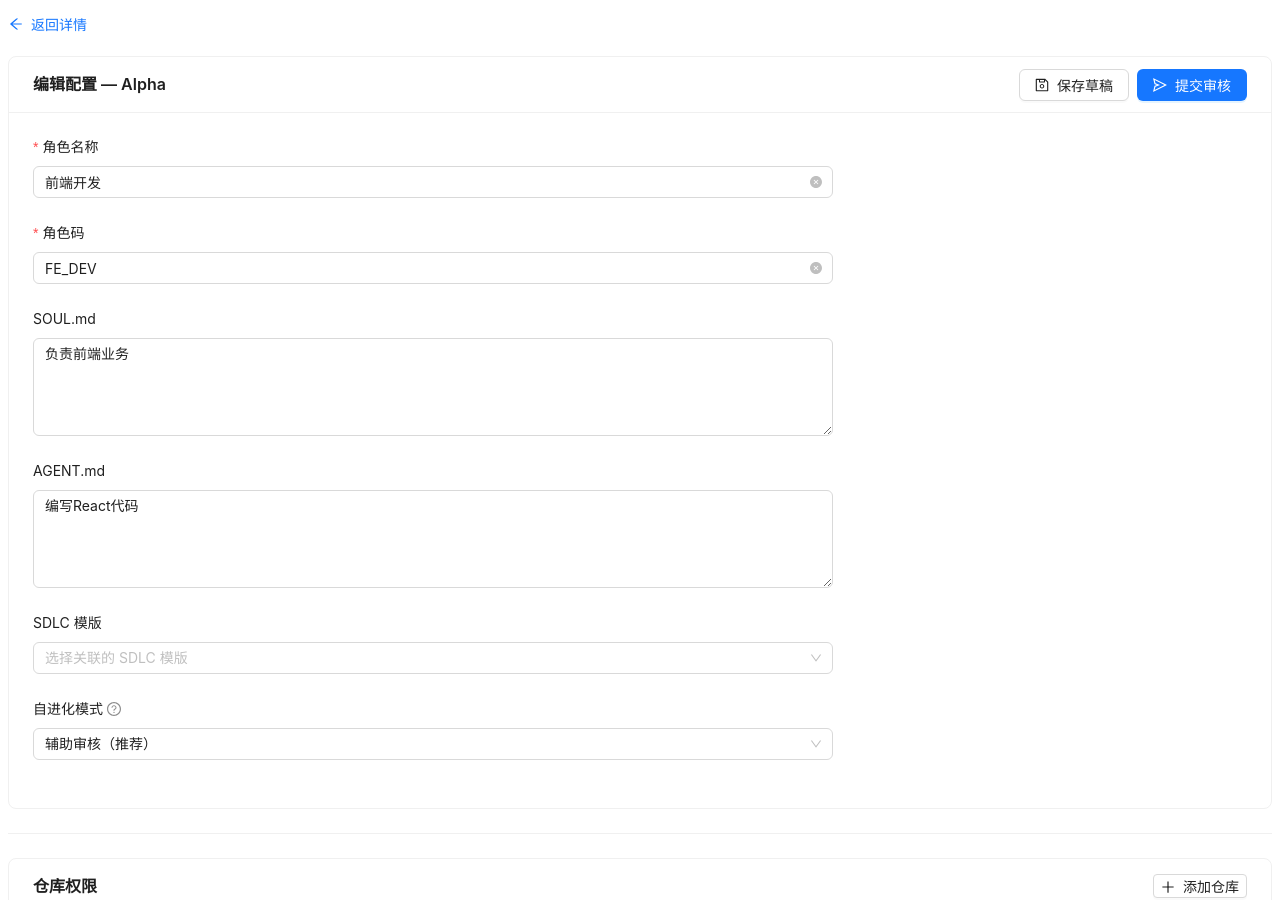
Test: AgentEditPage › shows persistent draft feedback after saving config
Check: the text "编辑配置 — Alpha" is shown, box [33, 74, 166, 94]
Click the button "保存草稿".
click(1074, 84)  # box [1019, 68, 1129, 100]
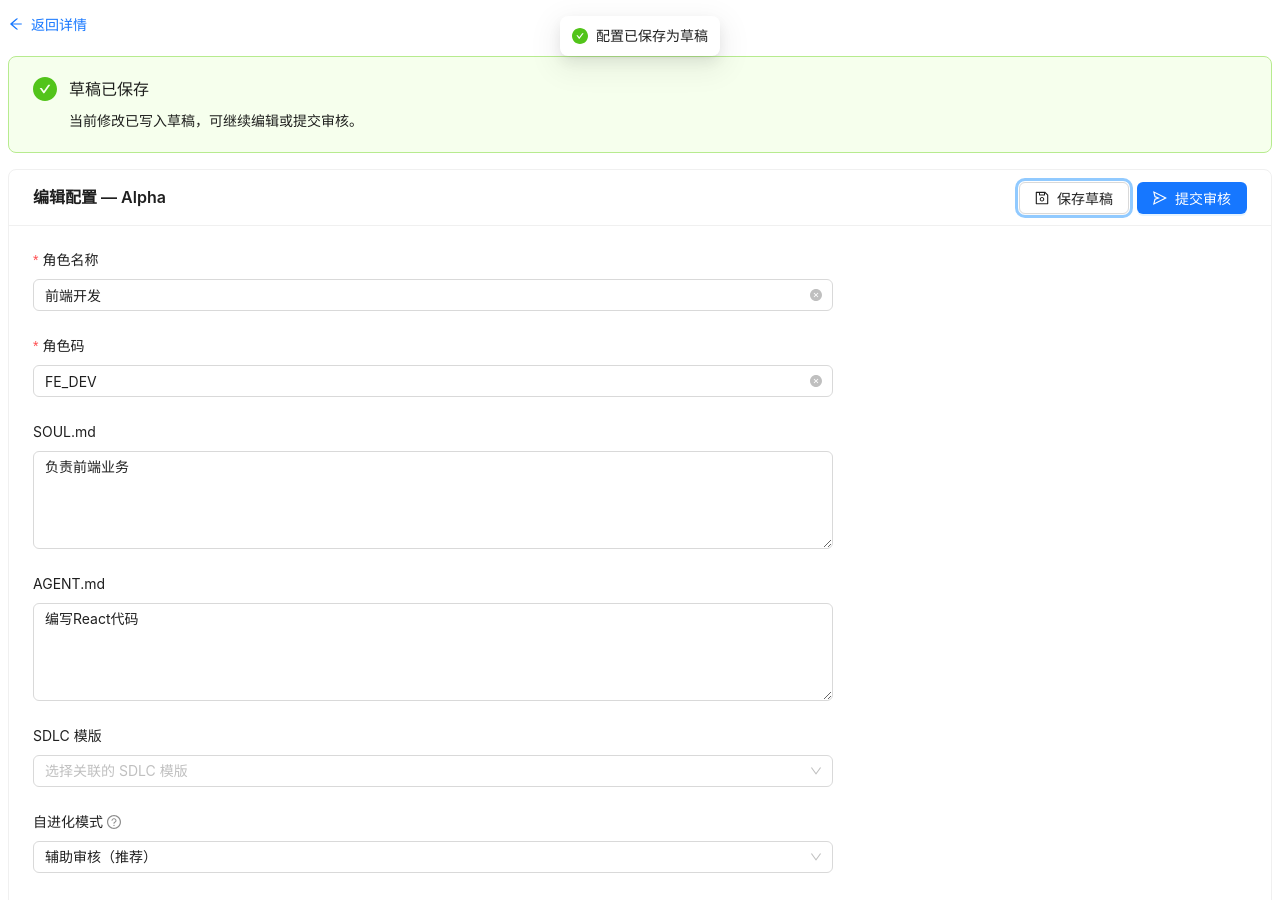
Check: the text "草稿已保存" is shown, box [69, 79, 149, 99]
Check: the text "当前修改已写入草稿，可继续编辑或提交审核。" is shown, box [69, 112, 363, 129]
